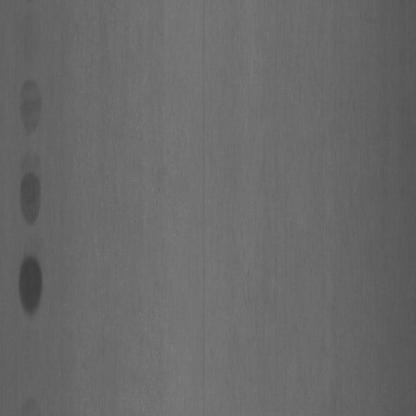oil_spot: (15, 248, 45, 333), (16, 150, 43, 230), (16, 74, 44, 134)
